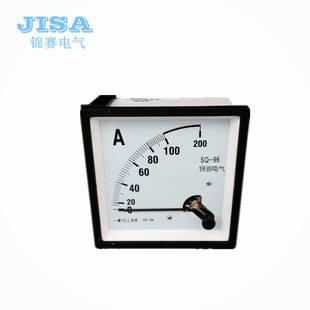pointer: (89, 115, 239, 240)
